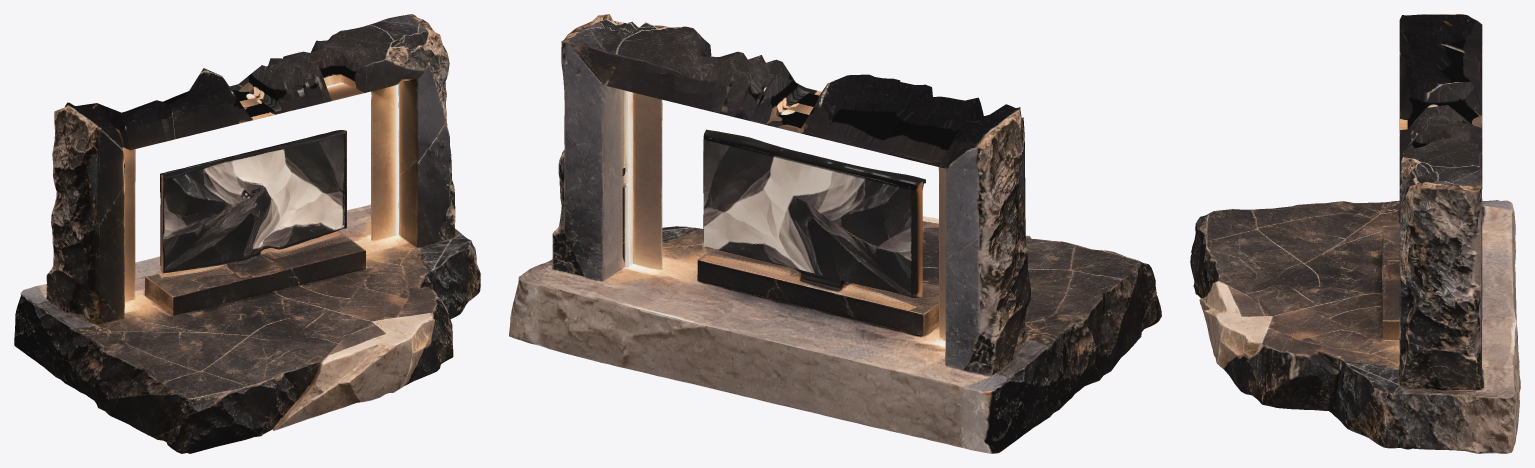
File: portfolio.glb
The picture shows the model from 3 angles, left to right: view 1: azimuth 30°, elevation 25°; view 2: azimuth 150°, elevation 25°; view 3: azimuth 270°, elevation 25°; orthographic projection. The views are drawn at different scales.
Visible parts, largest first — view 1: Mesh0; view 2: Mesh0; view 3: Mesh0.
Part boxes in pixels (<box>): Mesh0: <box>14,14,480,453</box>; Mesh0: <box>509,14,1161,453</box>; Mesh0: <box>1190,14,1520,453</box>.
Bounding box in the file's own units: 1.9 × 1.08 × 1.29.
1 material, 1 textured.
